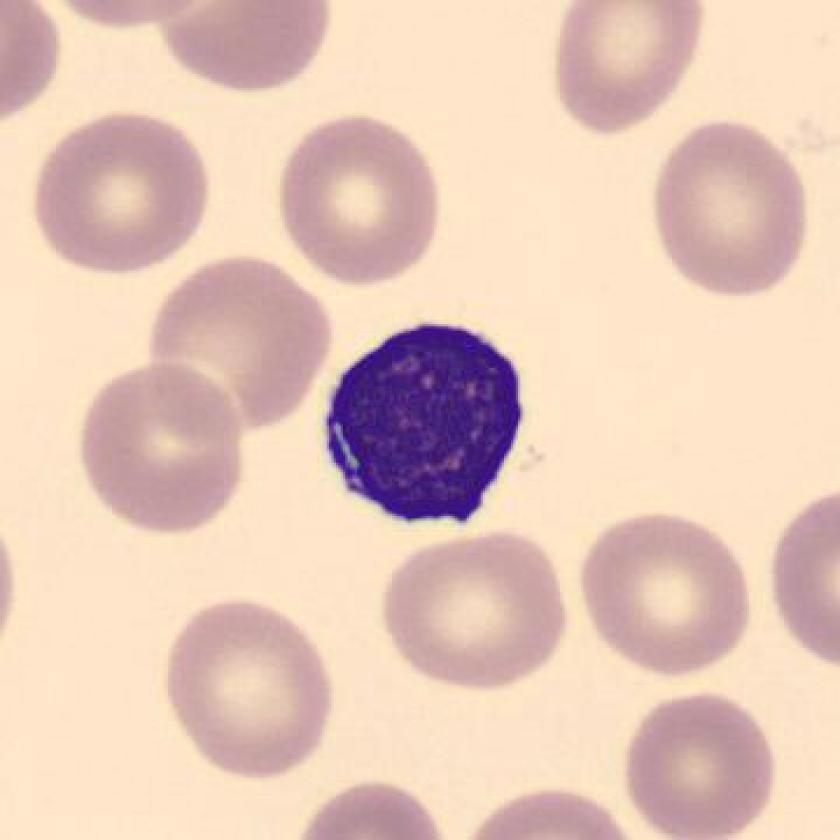lymphocyte: (312, 304, 543, 545)
